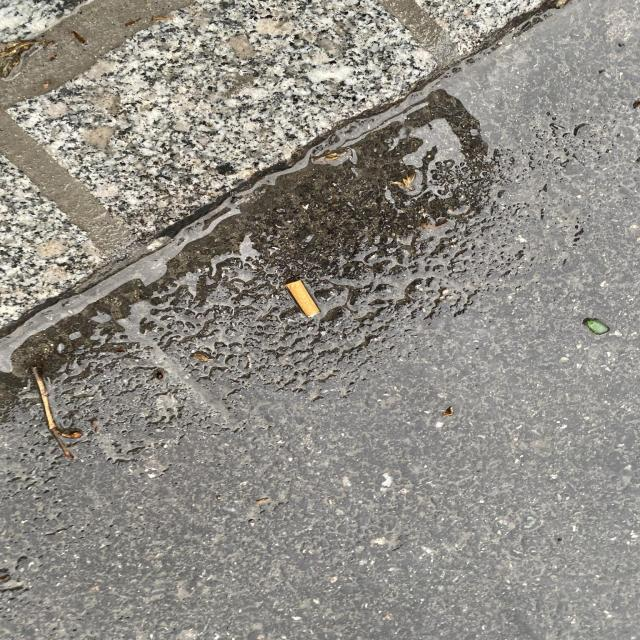other waste: (286, 279, 320, 318)
